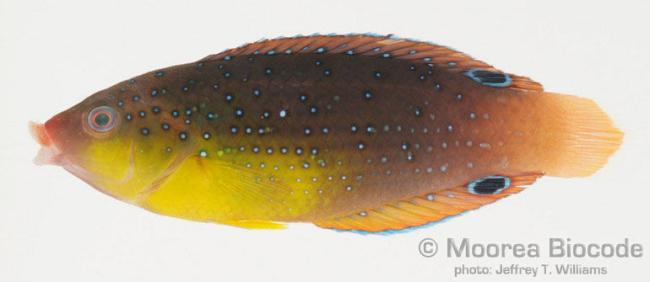fish: (31, 35, 623, 234)
